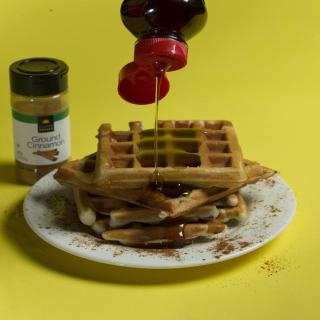Waffle: (51, 150, 280, 218), (90, 119, 250, 189), (74, 188, 247, 246)
